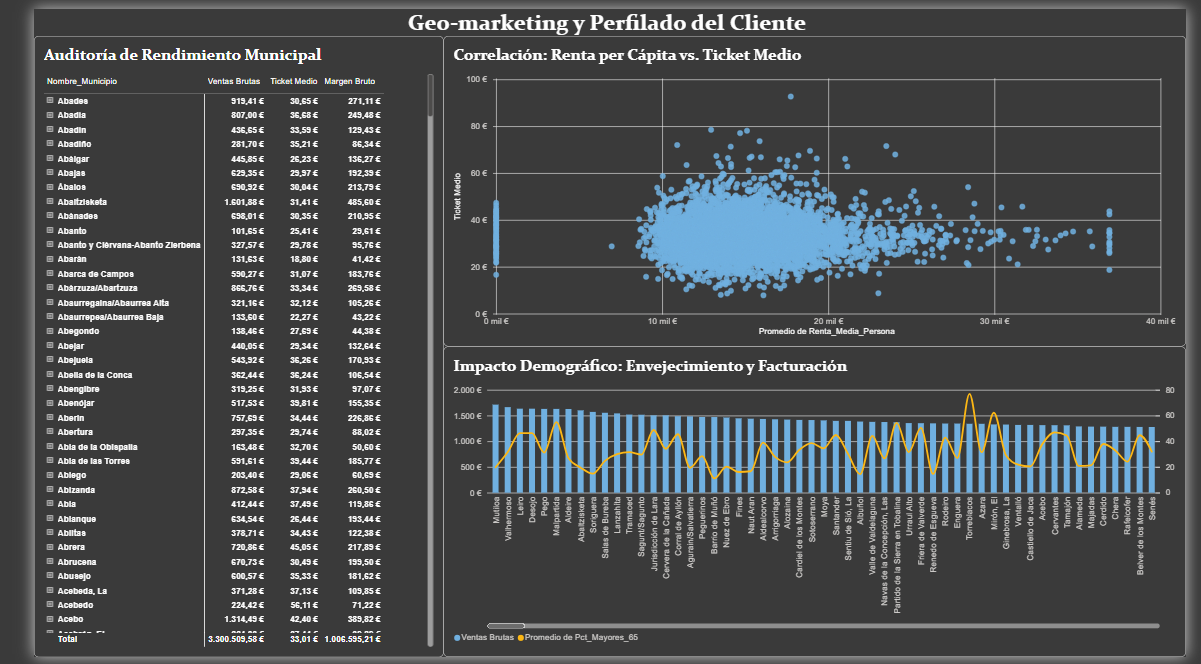

The page's visual inventory and layout, read from the dashboard file:
{"tool":"powerbi","page":{"name":"Geo-Marketing y Perfilado de Cliente","canvas":[1920,1080],"ordinal":1},"visuals":[{"type":"pivotTable","title":"Auditoría de Rendimiento Municipal","fields":{"Rows":["Dim_Geografia.Nombre_Municipio","Dim_Farmacia.Ubicacion"],"Values":["_Medidas.Ventas Brutas","_Medidas.Ticket Medio","_Medidas.Margen Bruto"]},"box":[0,45,682.5,1035],"z":0},{"type":"scatterChart","title":"Correlación: Renta per Cápita vs. Ticket Medio","fields":{"X":["Dim_Geografia.Renta_Media_Persona"],"Y":["_Medidas.Ticket Medio"],"Category":["Dim_Geografia.Nombre_Municipio"]},"box":[682.5,45,1237.5,517.5],"z":1000},{"type":"lineClusteredColumnComboChart","title":"Impacto Demográfico: Envejecimiento y Facturación","fields":{"Category":["Dim_Geografia.Nombre_Municipio"],"Y":["_Medidas.Ventas Brutas"],"Y2":["Avg(Dim_Geografia.Pct_Mayores_65)"]},"box":[683,563,1237,517],"z":2000},{"type":"textbox","box":[100,0,1710,45],"z":3000}]}

Visuals, with their boxes in screenshot pixels (x1, y1, x2, y2), scaled from the page's 1920x1080 canvas onto the 1201x664 screenshot:
"Auditoría de Rendimiento Municipal" pivotTable: locate(0, 28, 427, 663)
"Correlación: Renta per Cápita vs. Ticket Medio" scatterChart: locate(427, 28, 1200, 346)
"Impacto Demográfico: Envejecimiento y Facturación" lineClusteredColumnComboChart: locate(427, 346, 1200, 663)
textbox: locate(63, 0, 1132, 28)
